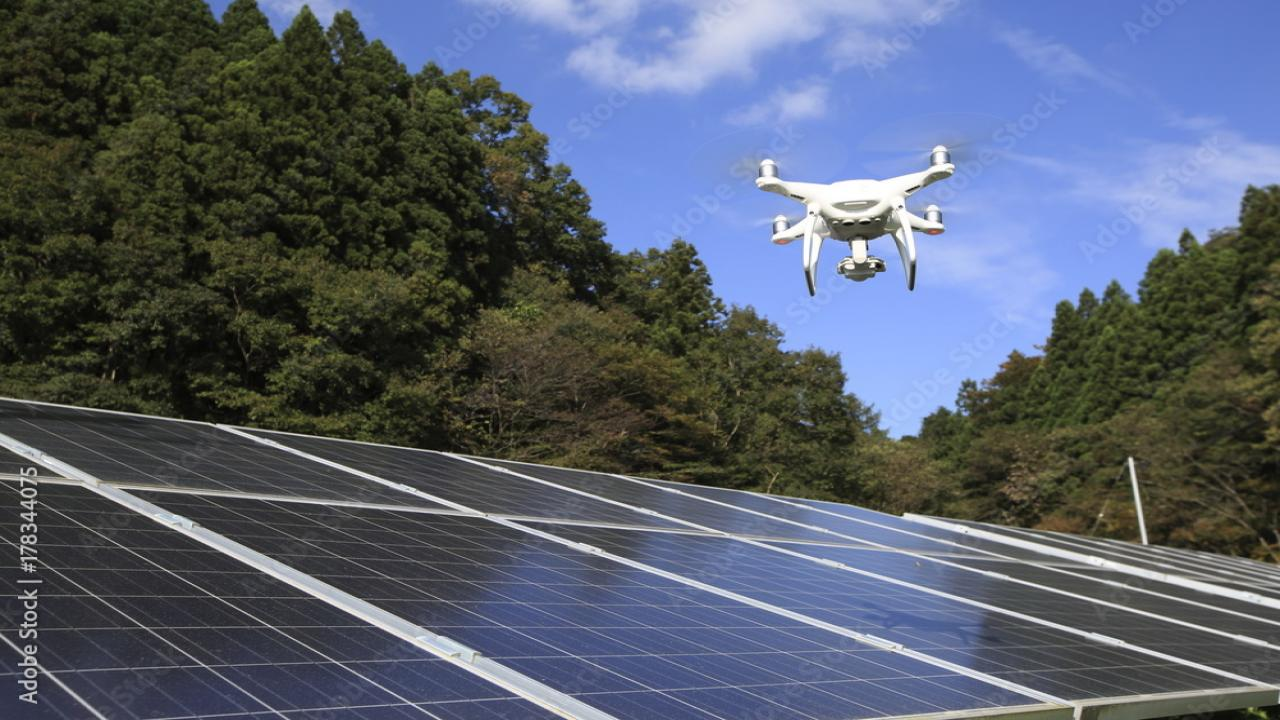Drone: (737, 125, 978, 309)
